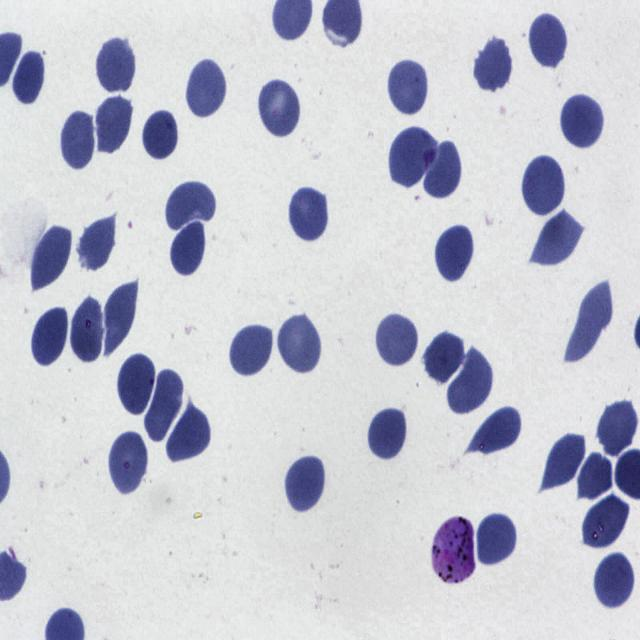gametocyte: (432, 515, 476, 587)
red blood cell: (562, 277, 614, 364), (530, 207, 586, 270), (446, 347, 494, 419), (388, 123, 436, 192), (144, 371, 188, 444), (276, 311, 324, 377), (164, 400, 212, 466), (29, 221, 74, 291), (521, 152, 567, 220), (107, 427, 150, 499), (256, 76, 303, 141), (558, 90, 606, 151), (164, 179, 216, 235), (581, 491, 630, 550), (68, 293, 107, 367), (386, 55, 431, 118), (284, 452, 328, 516), (544, 428, 588, 492), (102, 275, 138, 353), (592, 548, 638, 609), (228, 320, 275, 379), (116, 350, 156, 419), (186, 56, 228, 121), (94, 34, 138, 96), (30, 302, 70, 370), (470, 404, 523, 455), (597, 397, 639, 460), (422, 329, 468, 386), (474, 33, 515, 96), (422, 139, 463, 202), (436, 222, 476, 286), (371, 308, 416, 364), (528, 10, 569, 71), (78, 212, 119, 273), (95, 92, 134, 156), (287, 184, 329, 243), (60, 108, 97, 174), (170, 218, 210, 279), (367, 405, 409, 463), (476, 511, 518, 567), (10, 47, 48, 107), (577, 450, 615, 506), (142, 108, 178, 162)
